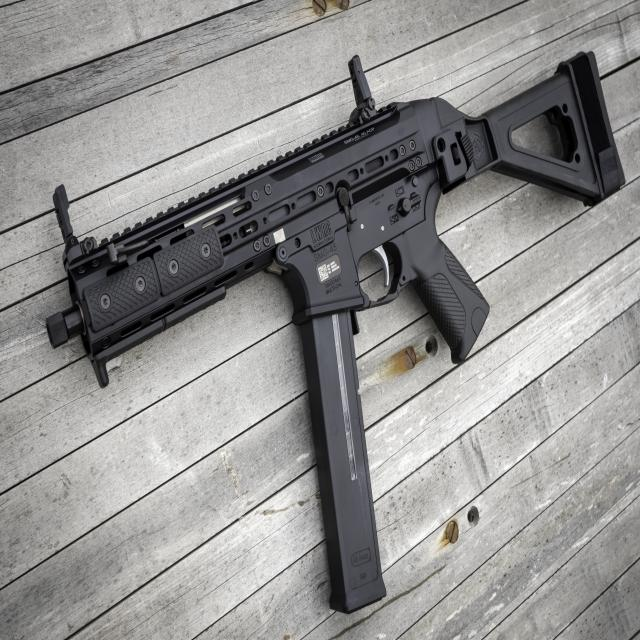Weapon: (46, 52, 624, 612)
